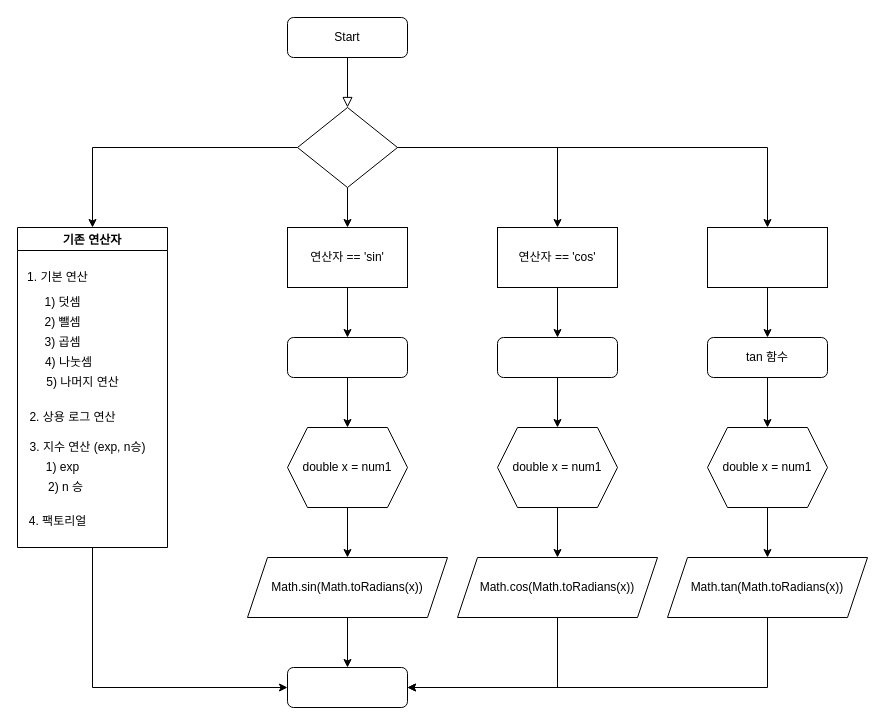
Some shapes in this 885 by 725 pixel diagram are drawn without their labels. Here are the shapes that lost their labels. From the top down, the box of each, then its label:
(296, 106, 398, 188): 연산자 종류
(706, 226, 828, 288): 연산자 == 'tan'
(286, 336, 408, 378): sin 함수
(496, 336, 618, 378): cos 함수
(286, 666, 408, 708): End
